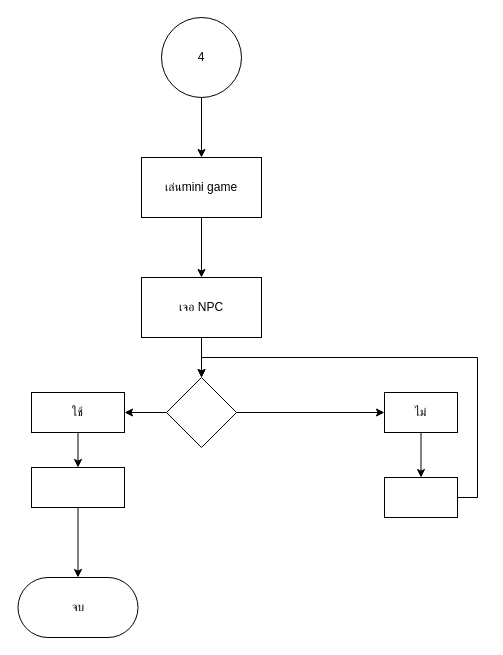
Image size: 503x655. Some labels were removed from this diagram. Here are the shapes that lost their labels. From the top down, the box of each, then its label:
(166, 376, 236, 448): เลือกตอบ
(30, 466, 124, 508): บทสนทนาที่1
(384, 476, 458, 518): บทสนทนาที่2
